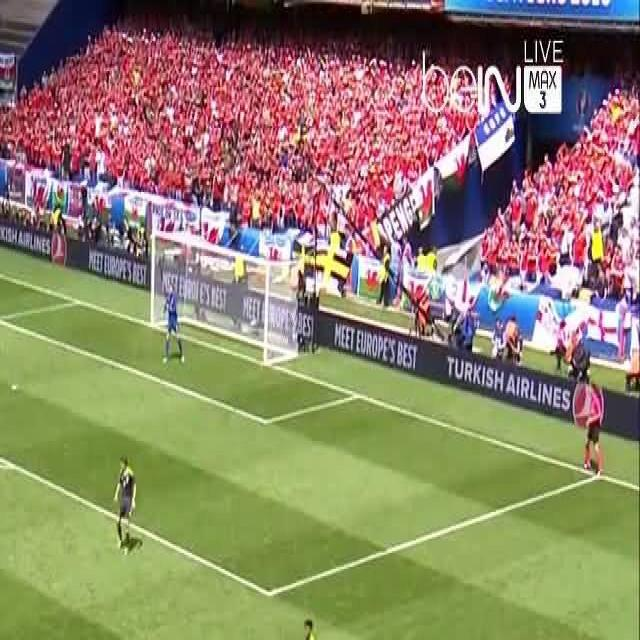player-white: (114, 457, 137, 558), (162, 283, 184, 365), (584, 384, 602, 474), (300, 620, 325, 640)
